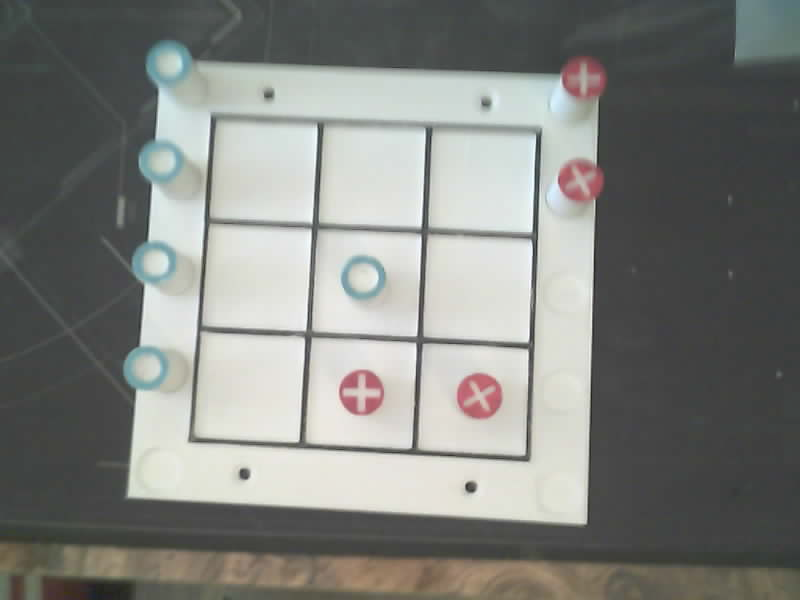blue circle: (146, 40, 191, 87), (123, 346, 168, 390), (138, 140, 184, 183), (341, 255, 385, 299), (132, 241, 176, 284)
board: (125, 42, 604, 523)
cells: (193, 332, 304, 441), (419, 344, 528, 455), (306, 338, 415, 448), (423, 235, 531, 342), (202, 224, 310, 330), (313, 231, 420, 335), (429, 128, 536, 231), (210, 119, 317, 222), (319, 125, 424, 226)
grid: (189, 114, 540, 460)
red cross: (457, 373, 501, 418), (339, 370, 383, 414), (557, 159, 603, 201), (561, 56, 606, 98)
